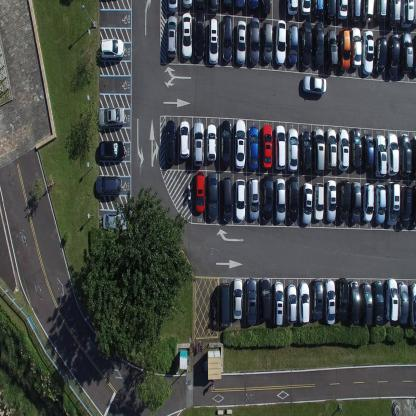car: (386, 181, 400, 226), (274, 18, 287, 66), (234, 118, 246, 170), (98, 140, 126, 162), (337, 179, 351, 223), (207, 16, 219, 66), (245, 276, 257, 326), (95, 174, 122, 196), (262, 173, 274, 222), (220, 119, 232, 168), (221, 13, 233, 62), (221, 176, 233, 224), (274, 122, 286, 170), (248, 16, 260, 64), (323, 277, 335, 325), (218, 281, 230, 329), (99, 38, 125, 60), (386, 132, 399, 176), (399, 186, 412, 230), (385, 278, 398, 322), (347, 280, 360, 324), (300, 21, 312, 68), (287, 176, 299, 223), (372, 280, 384, 327), (207, 171, 218, 222), (194, 10, 205, 61), (349, 180, 362, 223), (248, 176, 260, 222), (192, 121, 204, 167), (164, 119, 176, 165), (235, 19, 247, 65), (313, 127, 325, 173), (302, 74, 327, 96), (98, 107, 124, 128), (362, 30, 374, 75), (301, 181, 313, 226), (166, 14, 178, 59), (336, 276, 348, 321), (272, 281, 284, 326), (259, 277, 271, 322), (235, 178, 247, 222), (287, 22, 299, 66), (339, 27, 351, 71), (274, 178, 286, 222), (399, 133, 411, 177), (360, 282, 372, 326), (261, 122, 272, 169), (261, 20, 273, 63), (400, 31, 412, 74), (374, 134, 386, 177), (311, 278, 323, 321), (231, 277, 243, 320), (102, 212, 129, 231), (325, 29, 338, 68), (388, 32, 399, 78), (287, 126, 298, 172), (324, 128, 336, 170), (298, 282, 310, 324), (325, 178, 336, 223), (362, 181, 374, 222), (338, 127, 349, 171), (181, 12, 191, 60), (350, 128, 362, 168), (374, 184, 386, 224), (285, 284, 297, 324), (351, 26, 362, 69), (313, 180, 324, 222), (314, 21, 324, 67), (248, 125, 258, 171), (362, 133, 374, 170), (206, 122, 217, 162), (195, 170, 205, 214), (375, 36, 386, 76), (179, 120, 190, 160), (300, 130, 311, 170), (398, 282, 408, 326), (387, 0, 401, 28), (408, 282, 416, 327), (401, 0, 413, 29), (361, 0, 375, 23), (375, 0, 387, 25), (324, 0, 337, 23), (336, 0, 349, 22), (349, 0, 361, 23), (410, 135, 416, 179), (298, 0, 312, 18), (410, 185, 416, 226), (312, 0, 324, 19), (206, 0, 220, 15), (286, 0, 298, 17), (259, 0, 271, 16), (412, 34, 416, 76), (234, 0, 246, 12), (247, 0, 259, 12), (167, 0, 178, 13), (221, 0, 232, 12), (181, 0, 193, 10), (194, 0, 206, 9), (412, 0, 416, 26)
